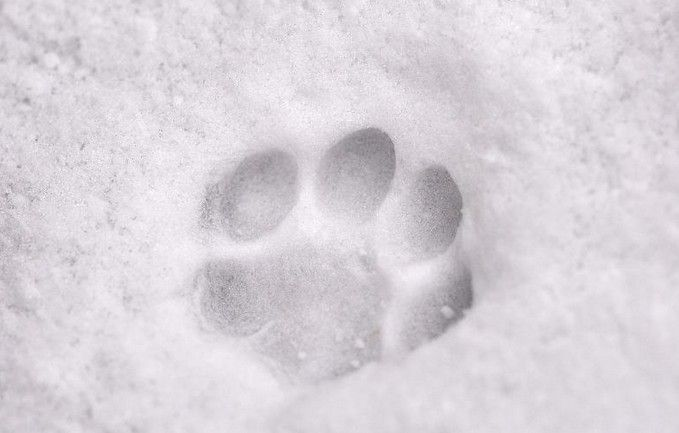cat: (172, 125, 480, 371)
